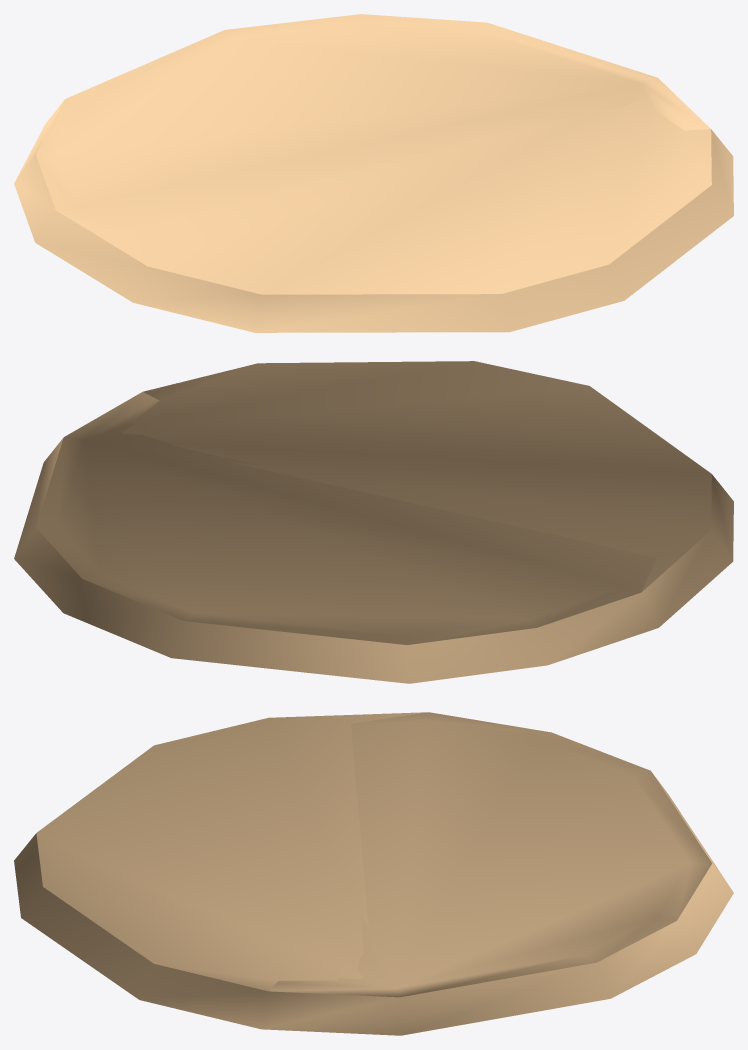
File: FP425:ShowerDrain_f100b1fe.obj
The picture shows the model from 3 angles, top to bottom: view 1: azimuth 30°, elevation 25°; view 2: azimuth 150°, elevation 25°; view 3: azimuth 270°, elevation 25°; orthographic projection.
Parts seen in each view (by area): view 1: FP425:ShowerDrain_f100b1fe; view 2: FP425:ShowerDrain_f100b1fe; view 3: FP425:ShowerDrain_f100b1fe.
Boxes of the visible parts, x1,y1,x2,y2 form: FP425:ShowerDrain_f100b1fe: (14,14,733,332); FP425:ShowerDrain_f100b1fe: (14,361,733,683); FP425:ShowerDrain_f100b1fe: (14,712,733,1035).
Size of the model in its own units: 0.2069 by 0.00928 by 0.2073.
